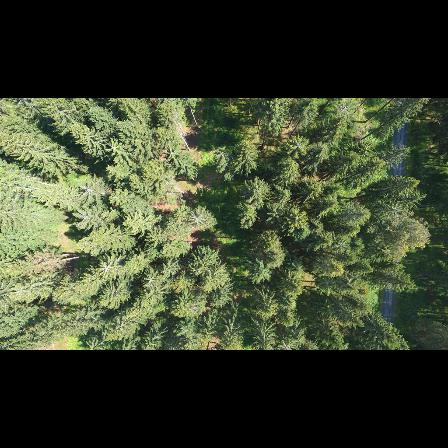Sick: (183, 204, 210, 233), (73, 175, 101, 202), (95, 258, 118, 280), (139, 270, 160, 290)
